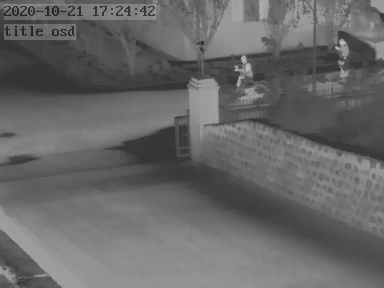person: (332, 36, 349, 76), (238, 54, 252, 86)
